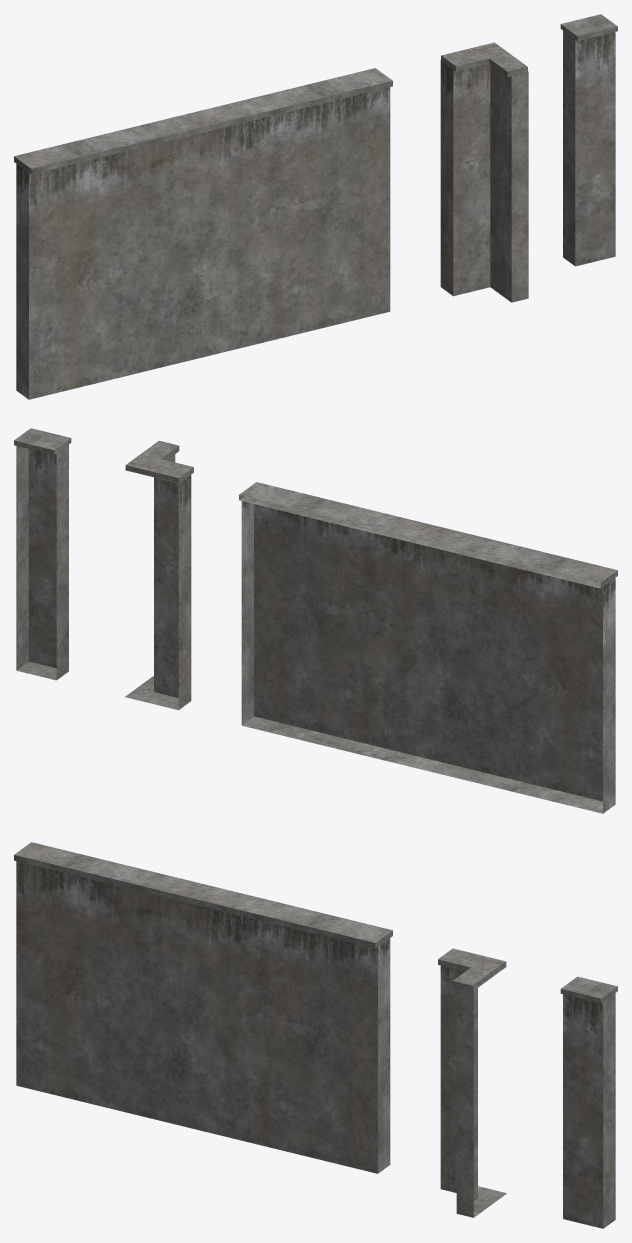
The model's file is wall_panel.glb.
3 views of the same model, one above another, from view 1: azimuth 30°, elevation 25°; view 2: azimuth 150°, elevation 25°; view 3: azimuth 330°, elevation 25° (orthographic).
Visible parts, largest first — view 1: Object_0; view 2: Object_0; view 3: Object_0.
Boxes of the visible parts, x1,y1,x2,y2 form: Object_0: (14, 14, 617, 399); Object_0: (14, 428, 617, 813); Object_0: (14, 842, 617, 1228).
Bounding box in the file's own units: 8.45 × 3.2 × 0.9025.
Materials: 1 (1 with a texture image).
